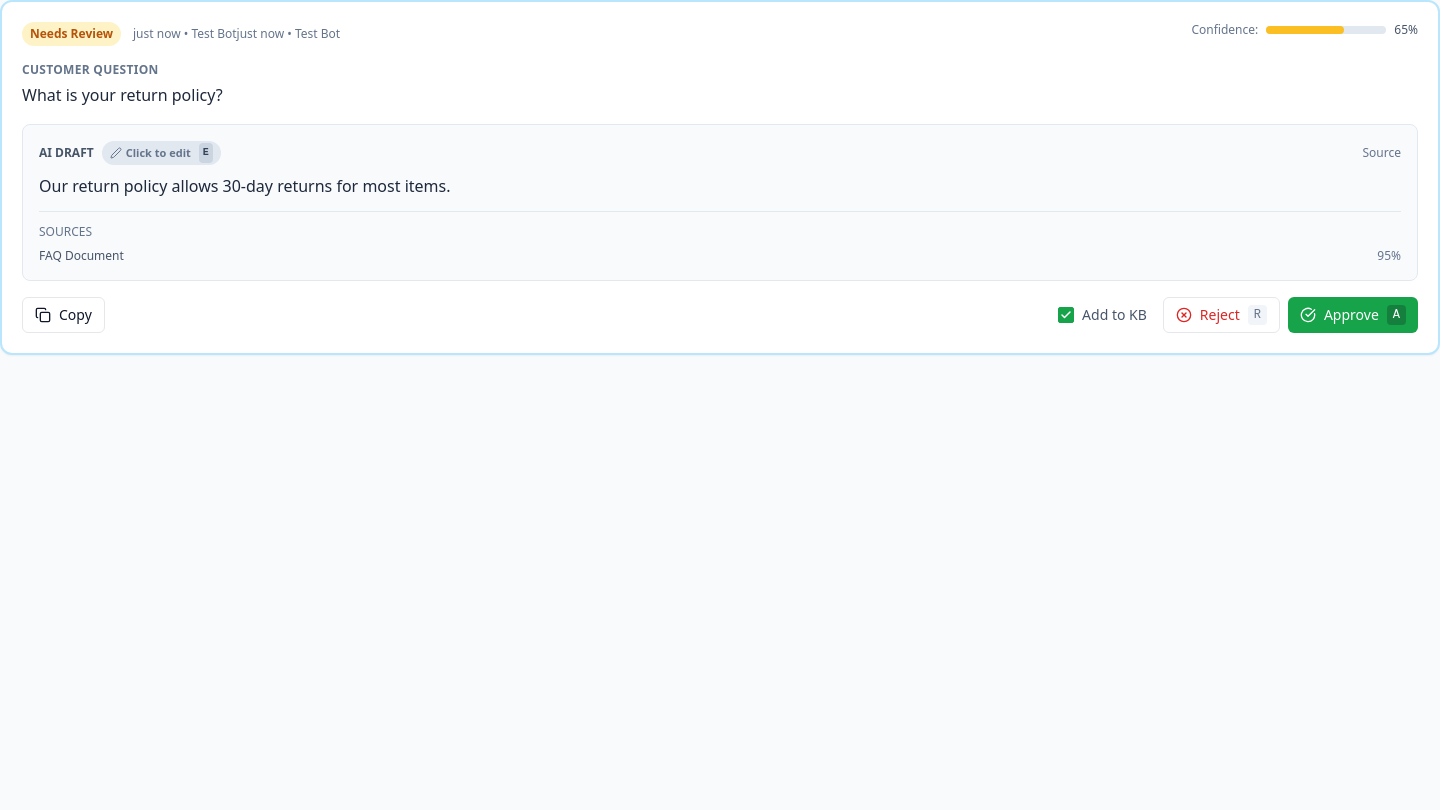
Scenario: ReviewQueueItemCard - Approve/Edit Flow › AC3: Success Toast › shows error toast on approval failure
Note: Approve (should fail)
What coordinates should you click on to do the following:
click the button "Approve A"
I would click on:
 (1353, 315)
Its box is [1288,297,1418,333].
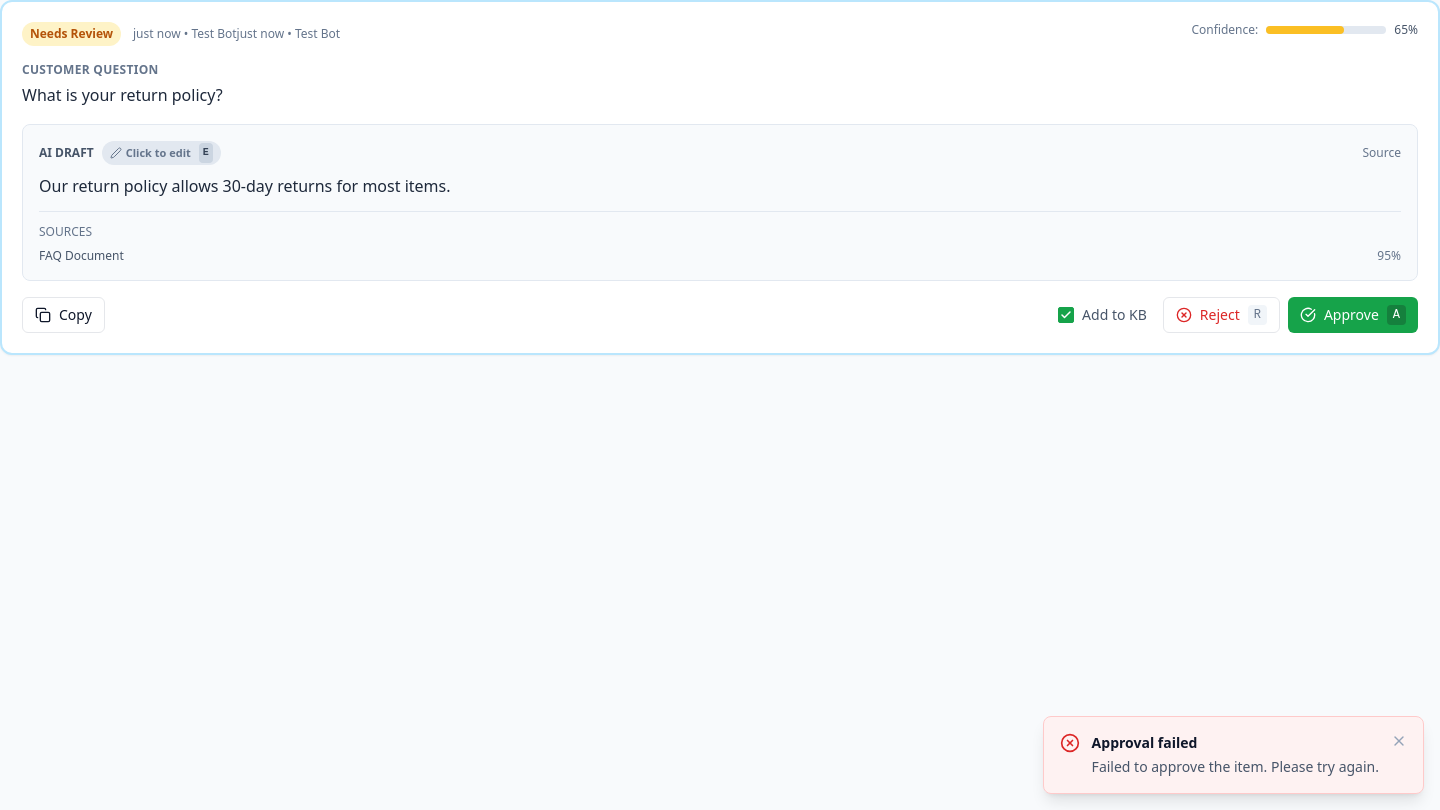
Expected: the text "Approval failed" is shown, [1092,733,1197,752]
